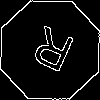R: (25, 25, 78, 82)
